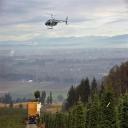helicopter: (46, 13, 70, 30)
